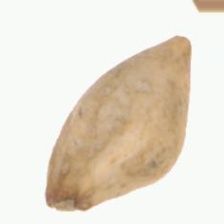L1: (45, 190, 94, 212), (169, 33, 192, 57)
L2: (44, 34, 191, 212)
